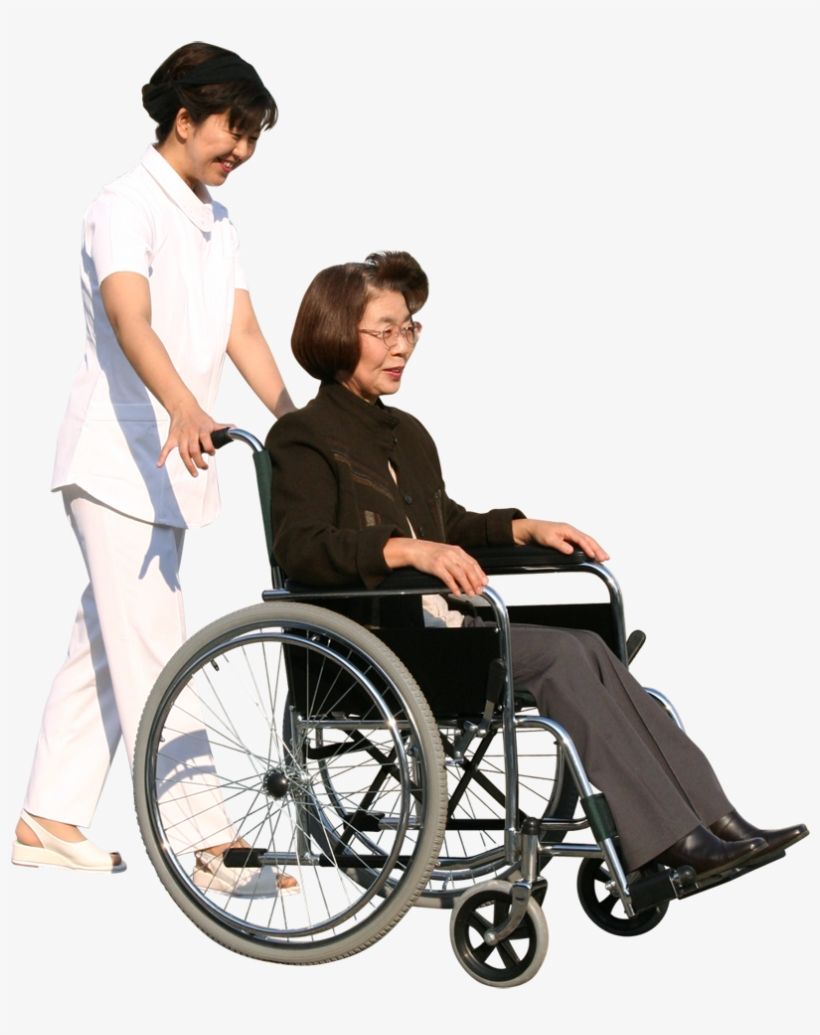wheelchair: (131, 239, 807, 988)
